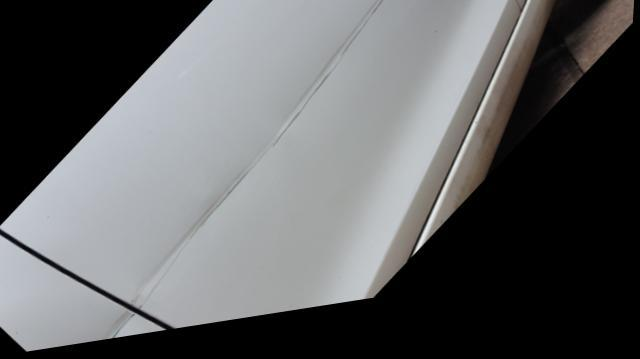scratch: (132, 0, 401, 314), (101, 313, 143, 345)
